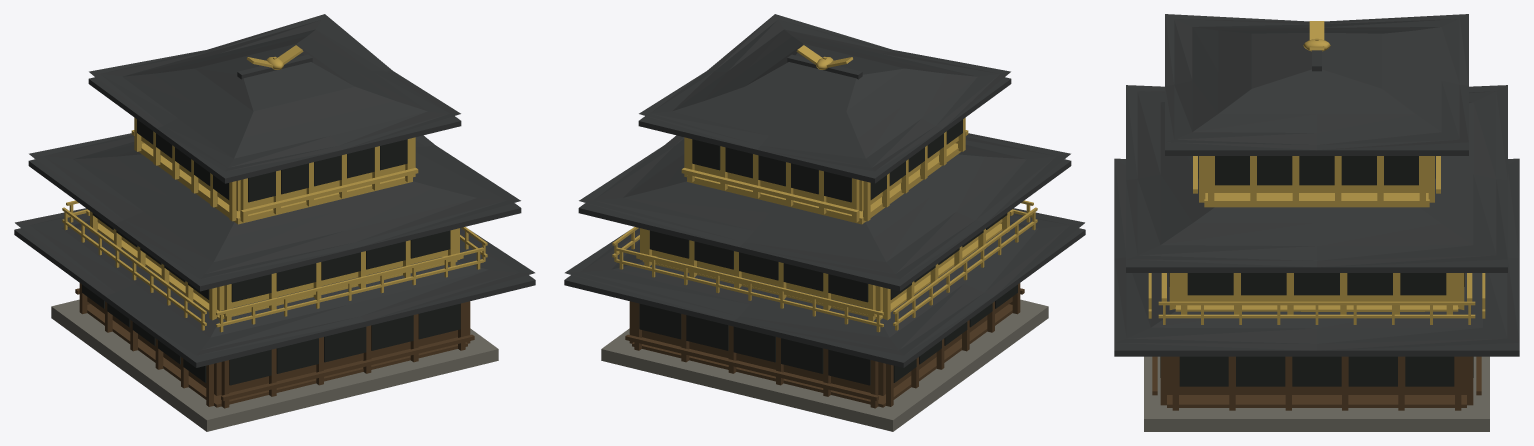
Rendered from goldenPavilion.glb.
The picture shows the model from 3 angles, left to right: view 1: azimuth 30°, elevation 25°; view 2: azimuth 150°, elevation 25°; view 3: azimuth 270°, elevation 25°; orthographic projection. The views are drawn at different scales.
Size of the model in its own units: 15.12 by 12.18 by 14.04.
